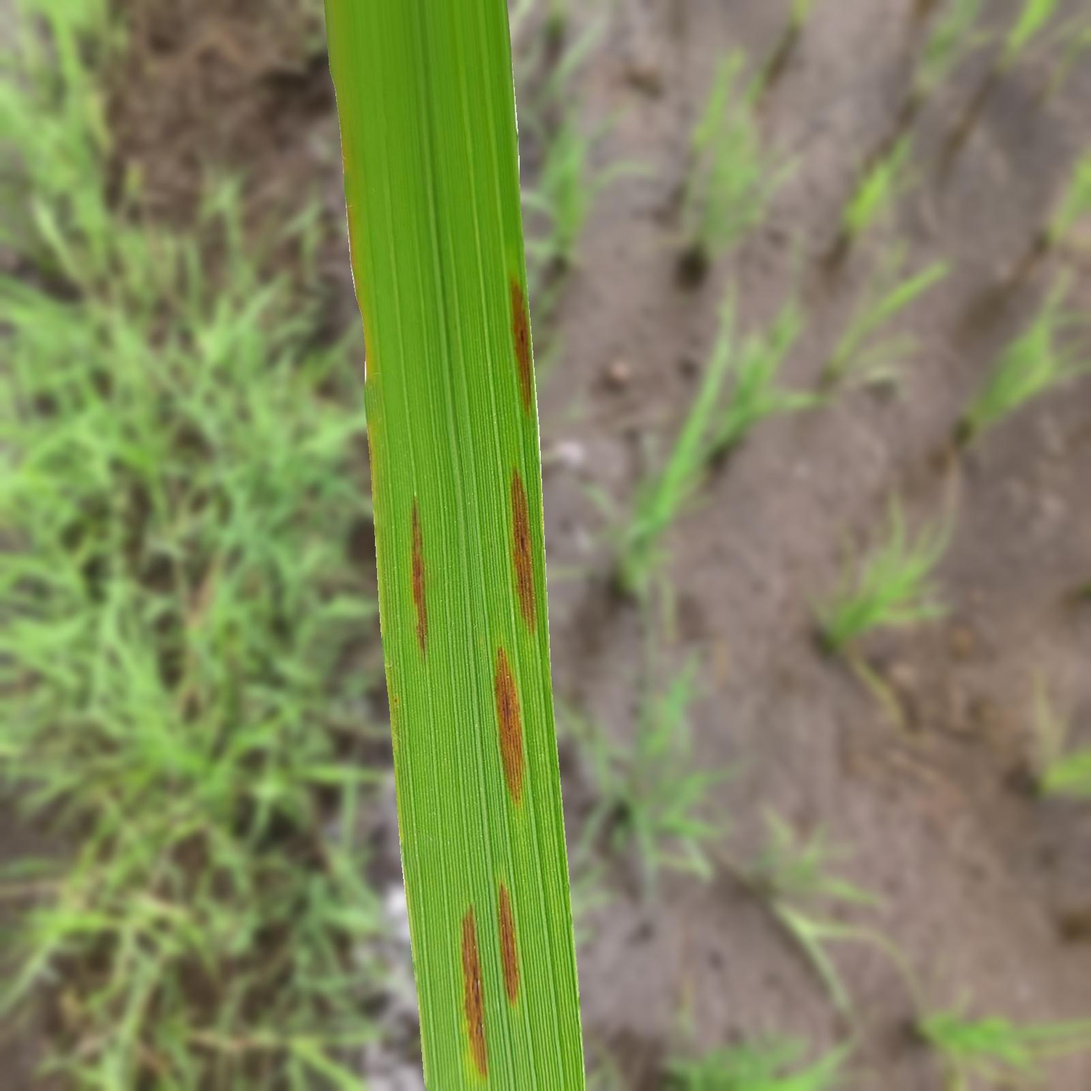LEAF: (324, 0, 586, 1090)
NBS: (494, 646, 524, 803), (462, 905, 487, 1077), (511, 469, 536, 631), (511, 281, 532, 412), (499, 882, 519, 1004), (413, 498, 427, 652)
